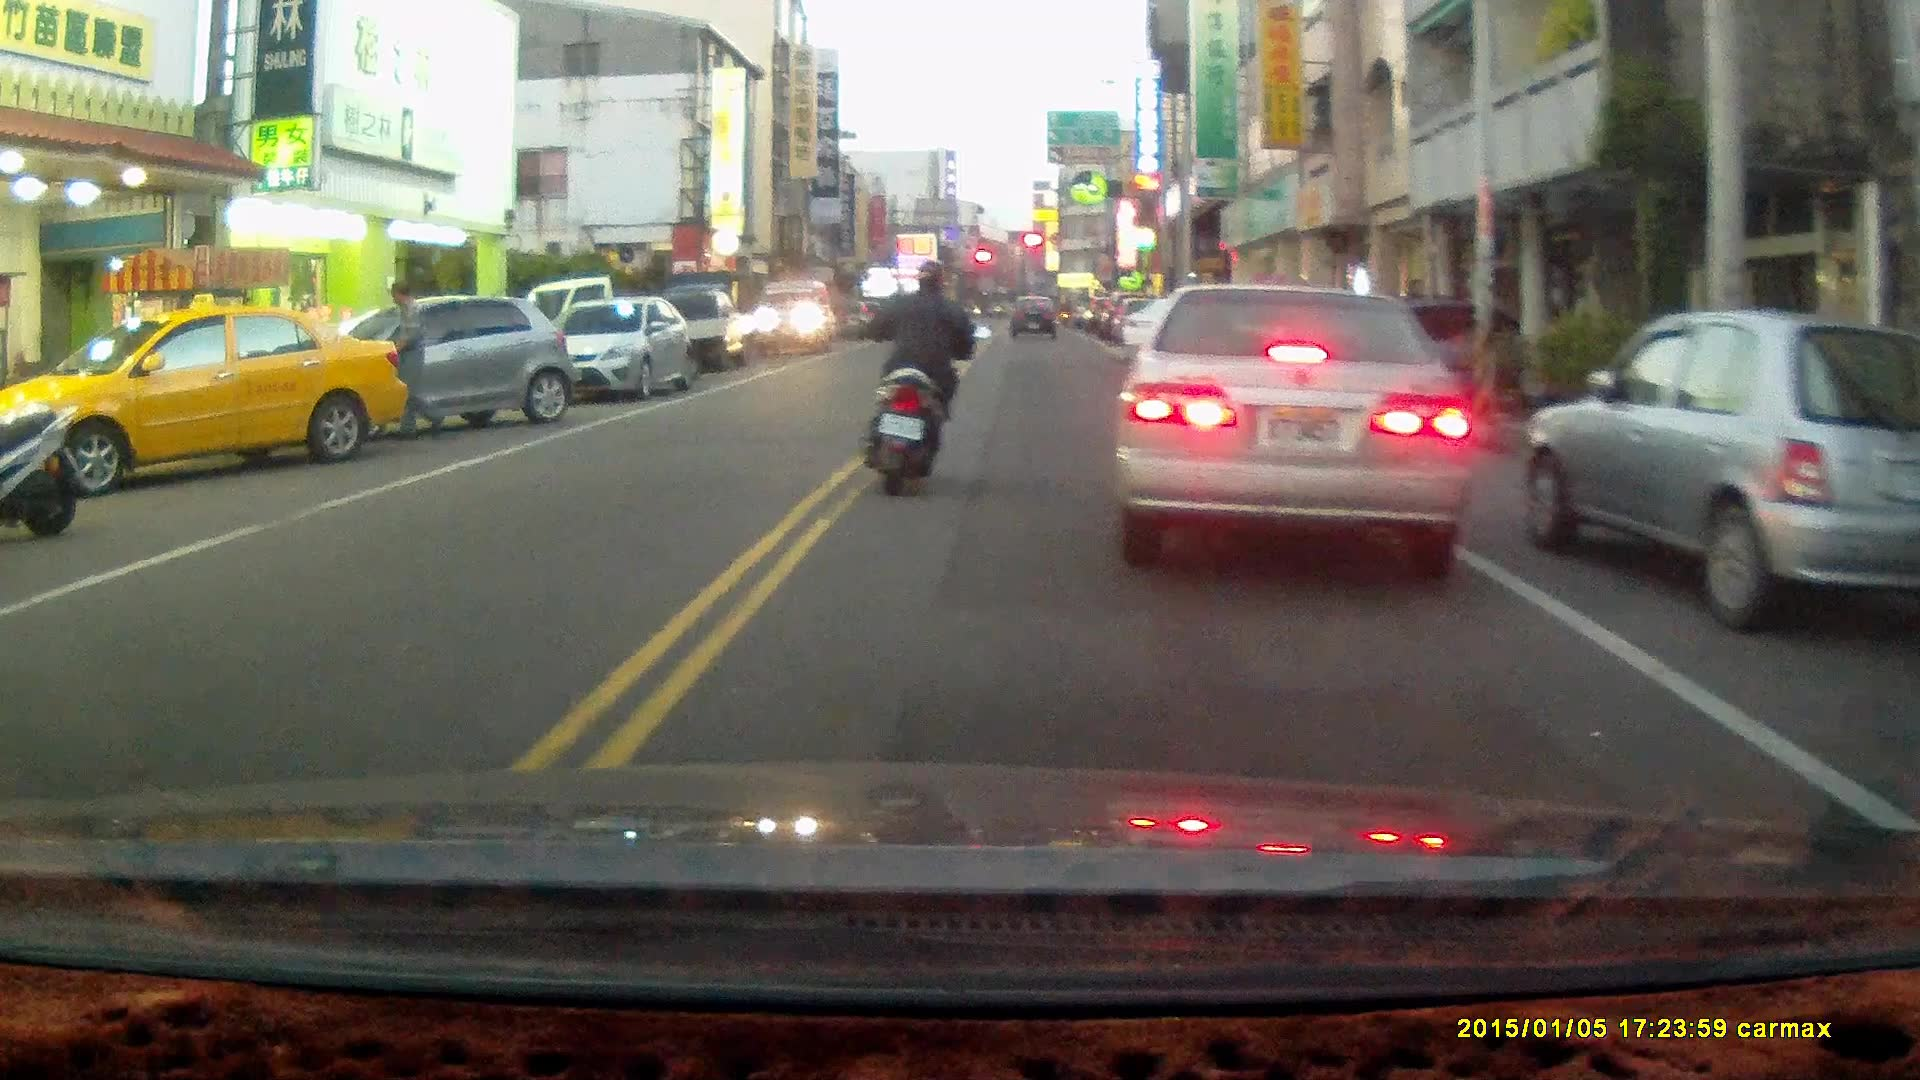pedestrian: (382, 279, 441, 445)
rider: (863, 256, 992, 495)
vehicle: (1530, 306, 1920, 629), (1109, 278, 1483, 569), (1, 303, 414, 501), (300, 291, 579, 428), (556, 297, 703, 402), (695, 284, 788, 378), (756, 279, 839, 355)
